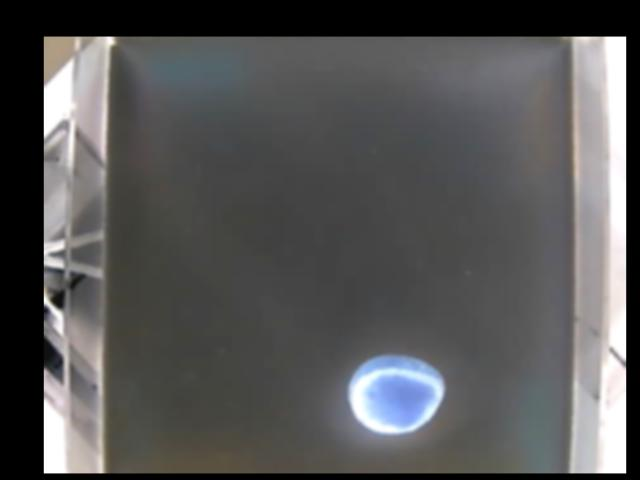Potato: (345, 352, 446, 436)
